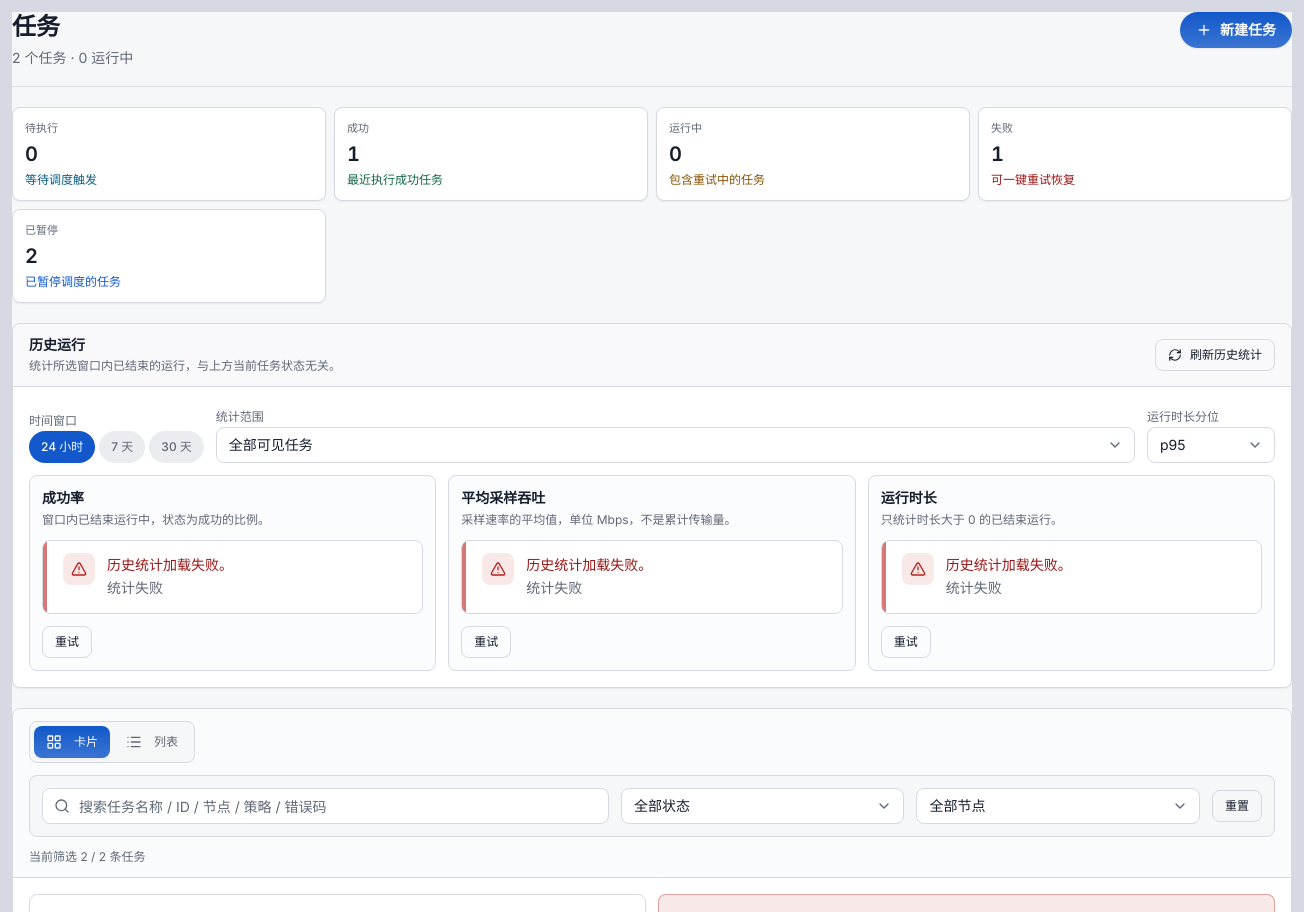
Test case: TasksPage › shows a historical statistics error and retries the query
Check: the text "统计失败" is shown 3 times, box [107, 578, 163, 596]; [526, 578, 582, 596]; [946, 578, 1002, 596]
Click the button with aria-label "重试成功率" at (67,642), box [42, 626, 92, 658]
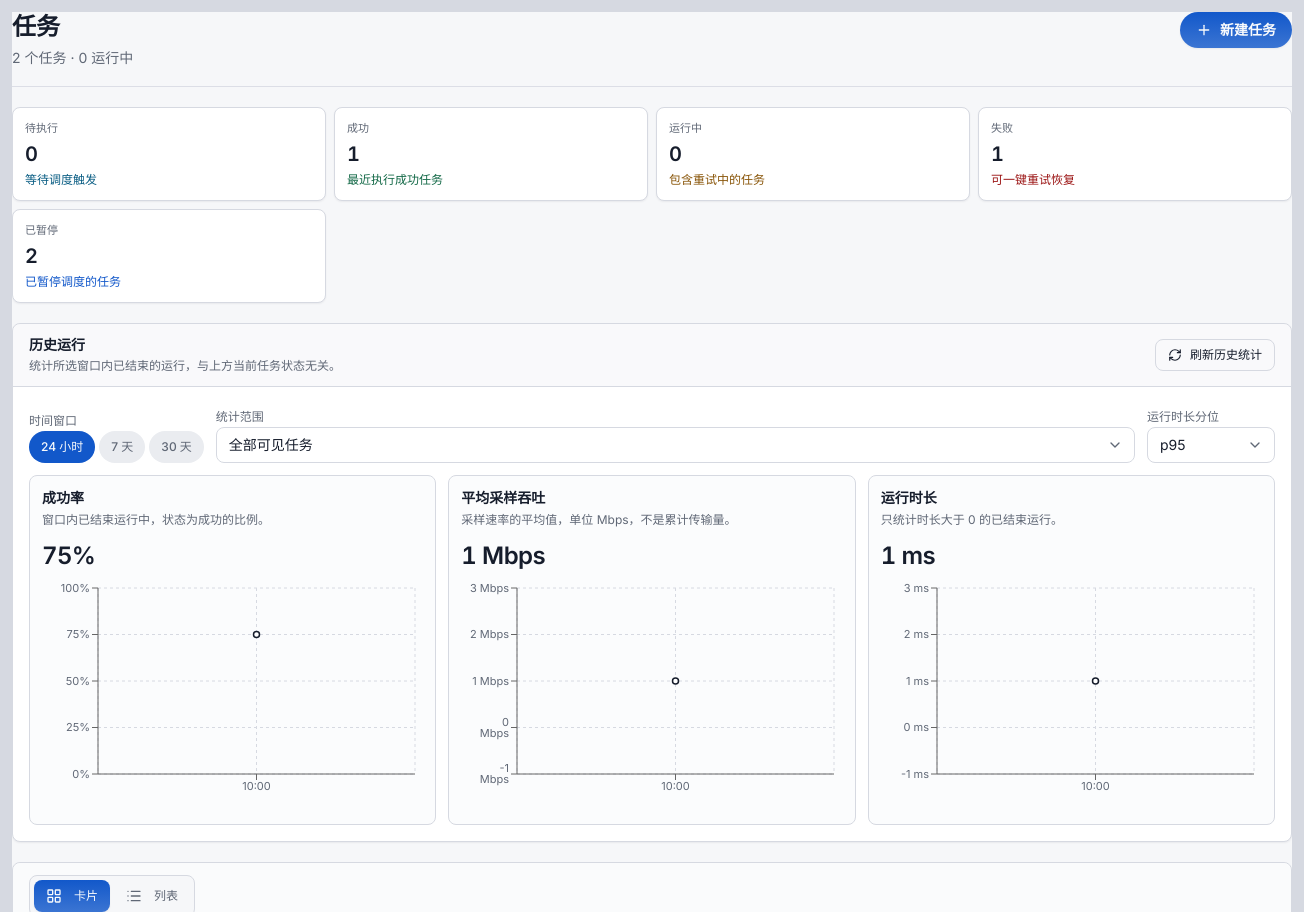
Check: the text "75%" is shown, box [41, 540, 205, 570]
